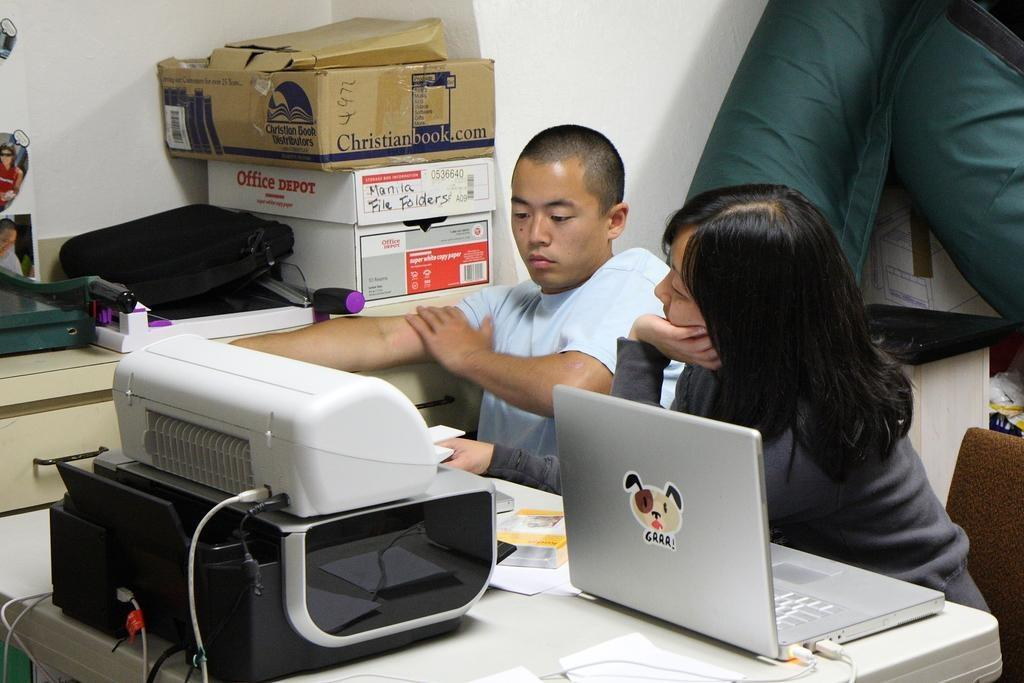Printer: (48, 447, 516, 682), (112, 332, 466, 515)
